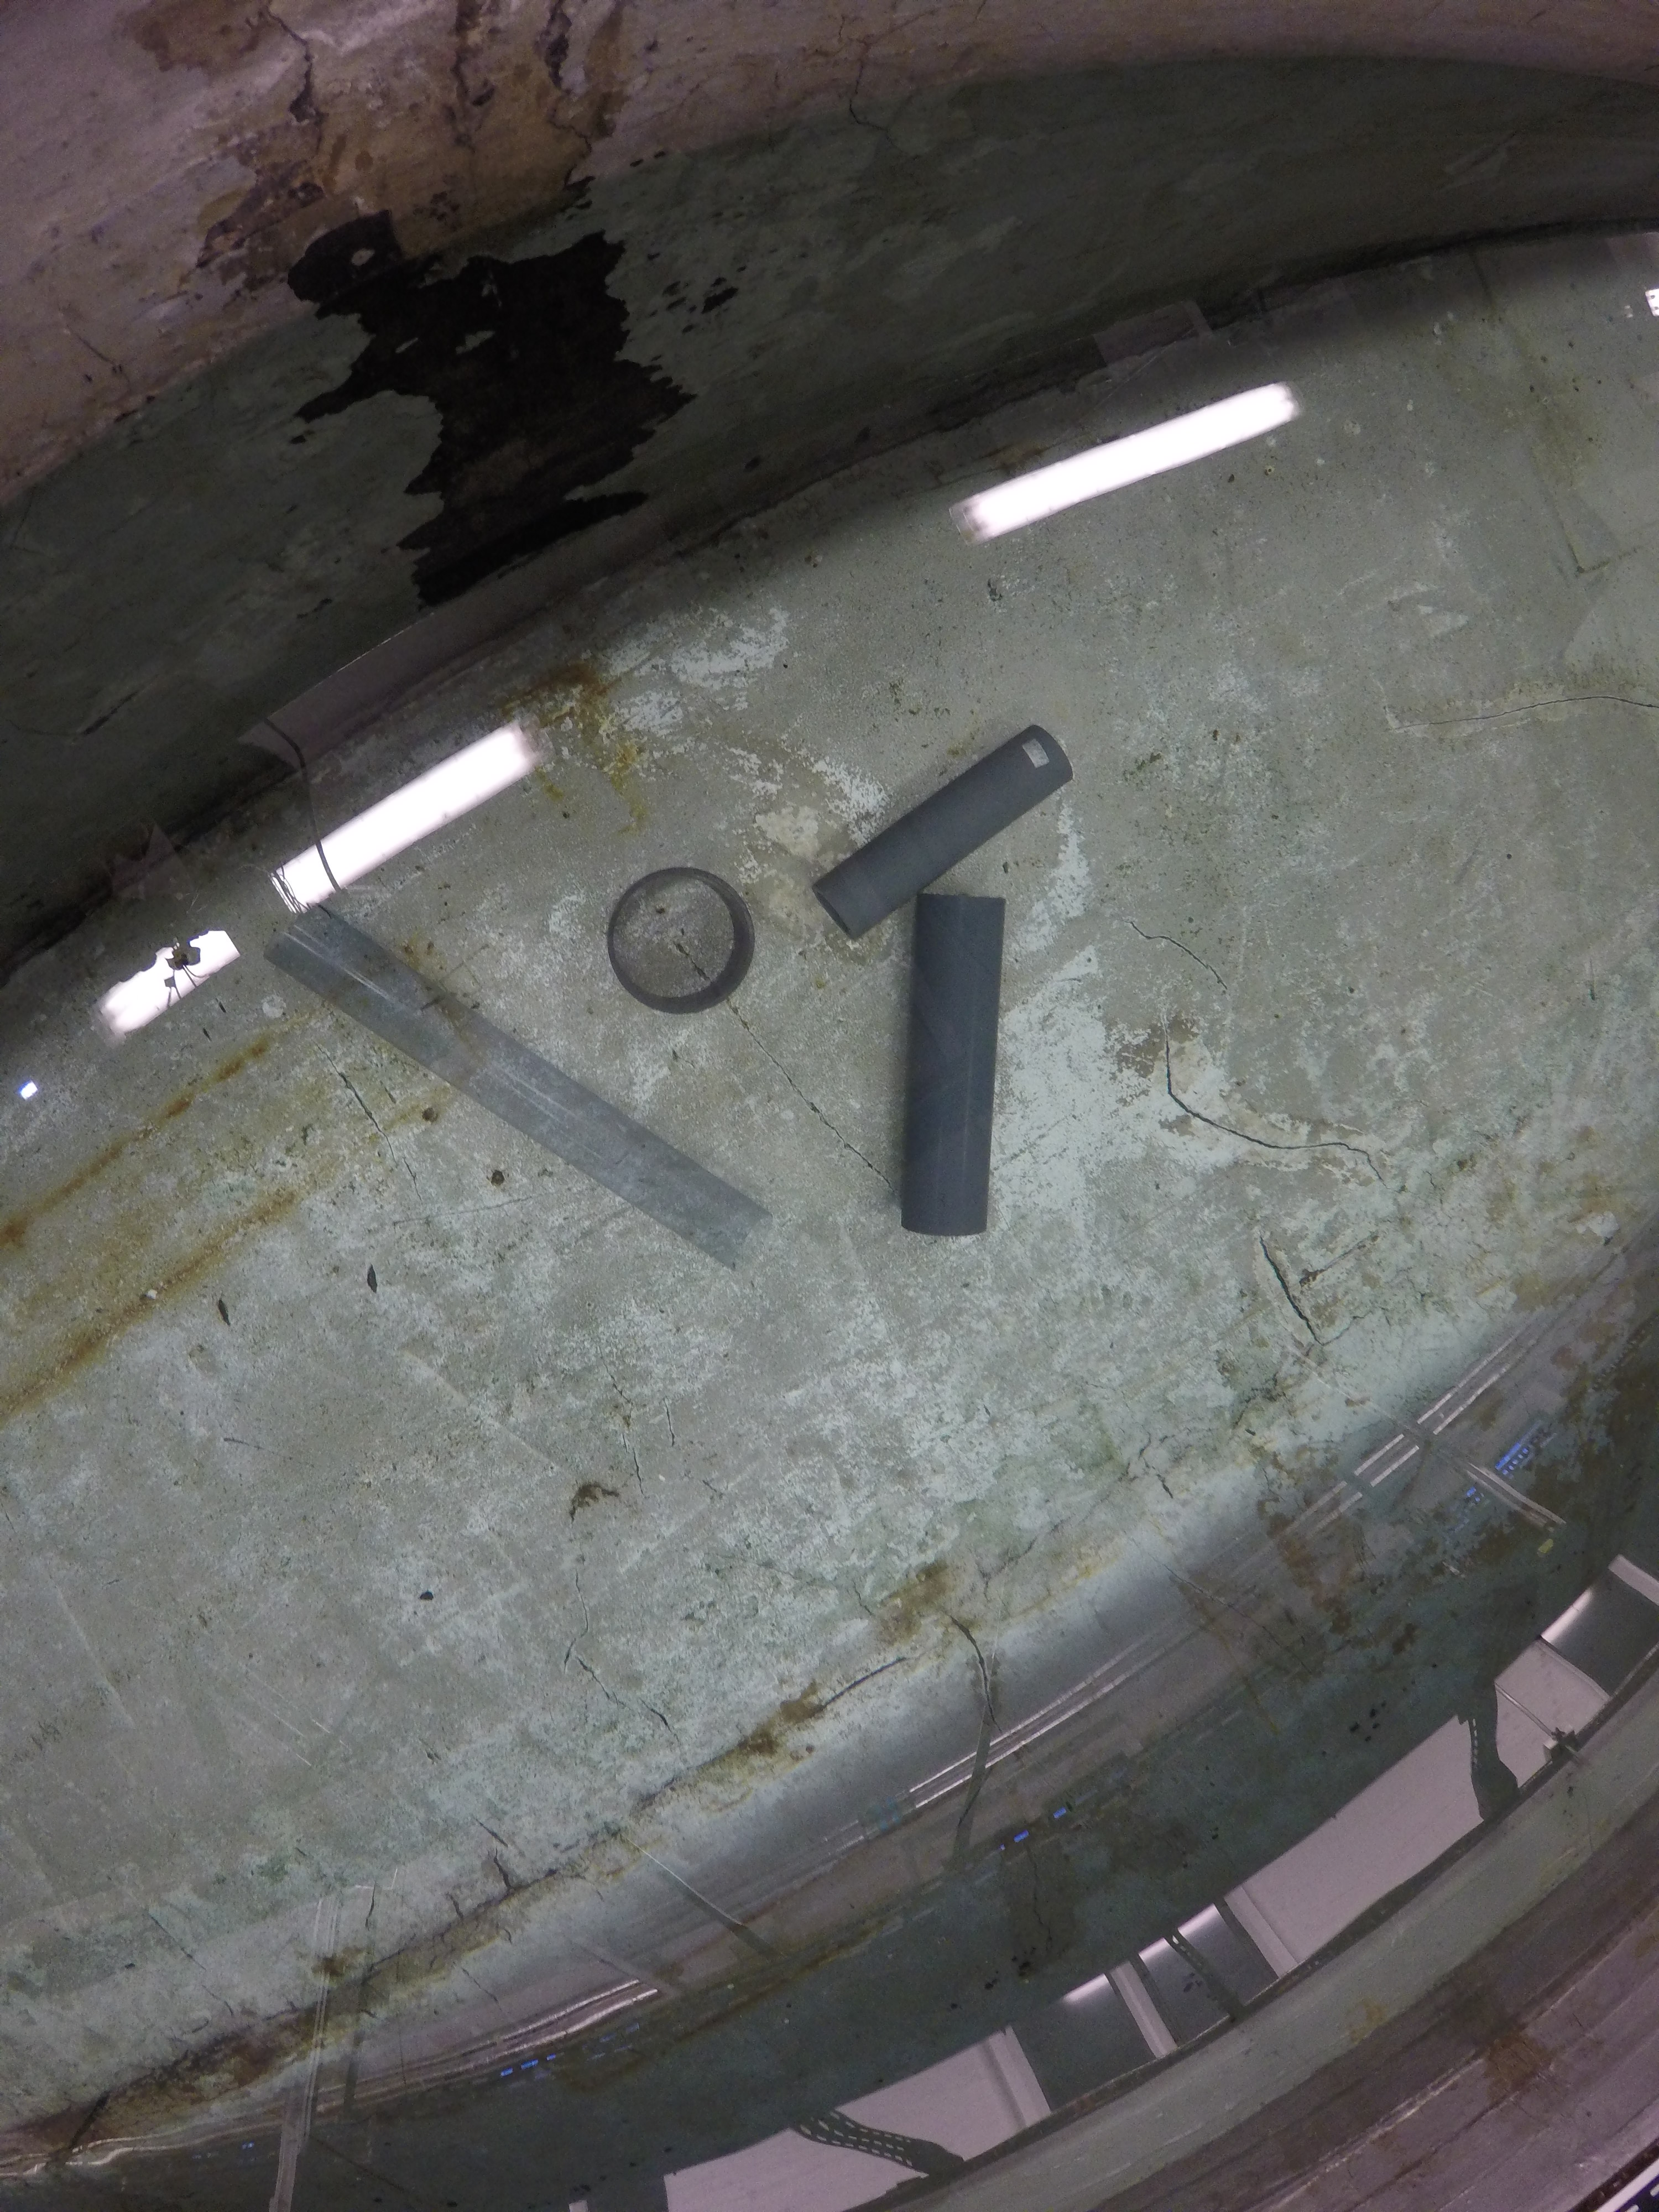pipe: (263, 897, 774, 1268), (810, 725, 1073, 942), (899, 892, 1009, 1235), (606, 864, 758, 1015)
